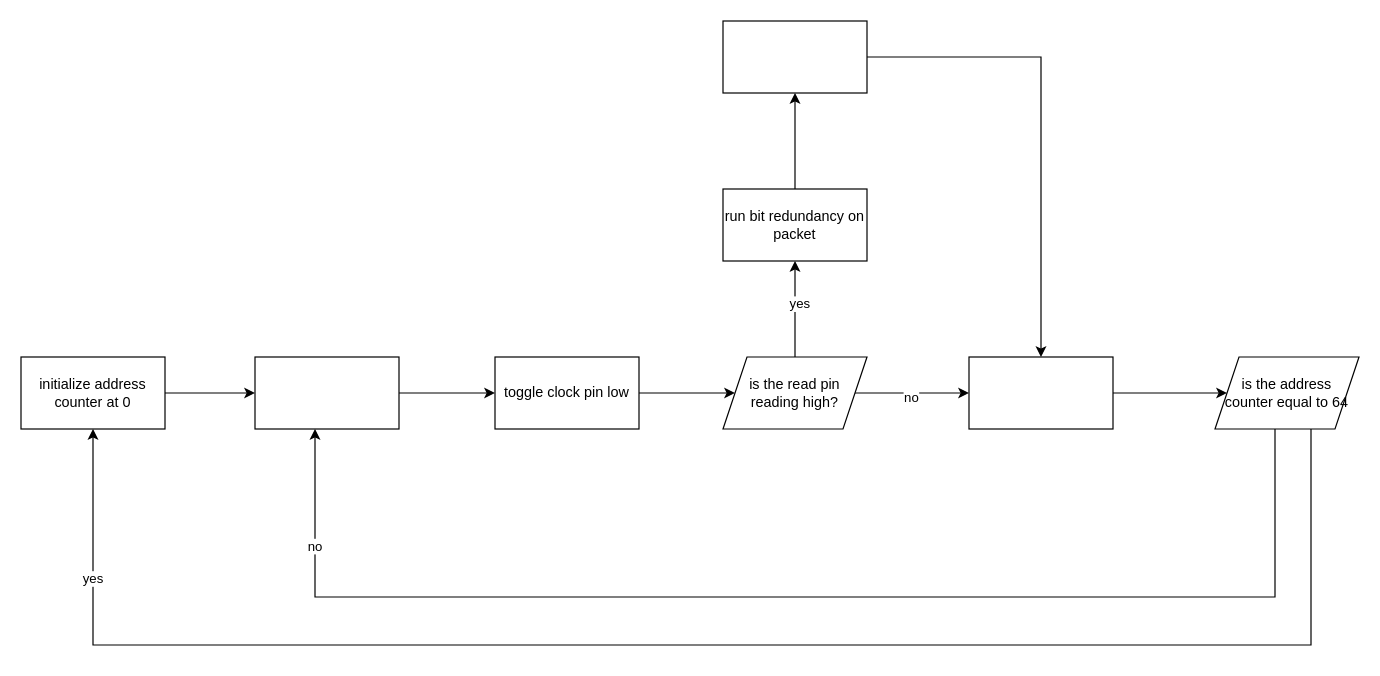
This 1380x676 diagram has some shape labels left out. The shapes that lost their labels are listed below. From the top down, each one's centre as x and y in pixels, then its label:
At (x=794, y=56): "SPI packing and send".
At (x=326, y=392): "toggle clock pin high".
At (x=1040, y=392): "increment address counter".
